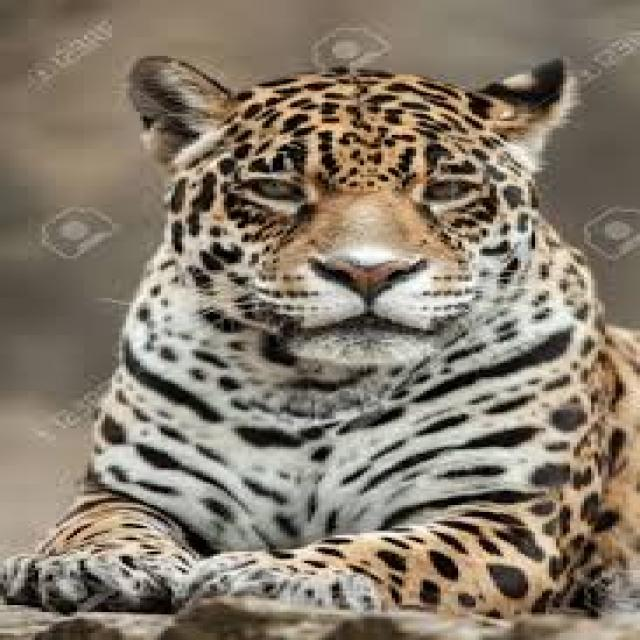Jaguar: (0, 40, 640, 619)
